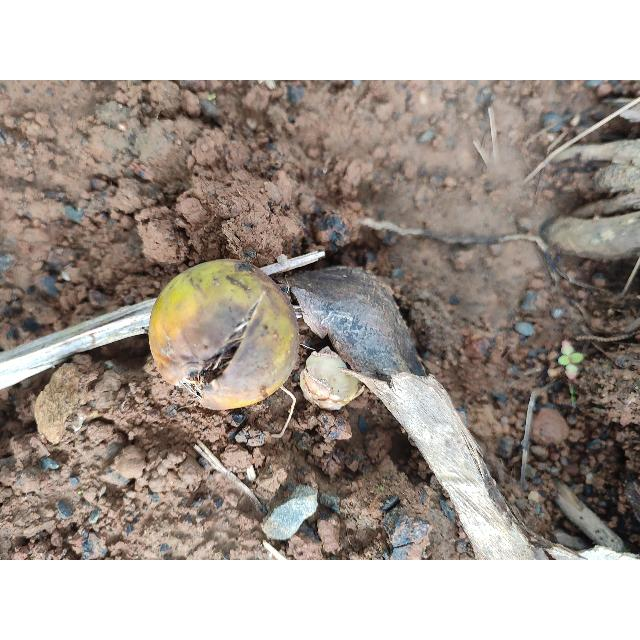damaged: (147, 260, 300, 413)
